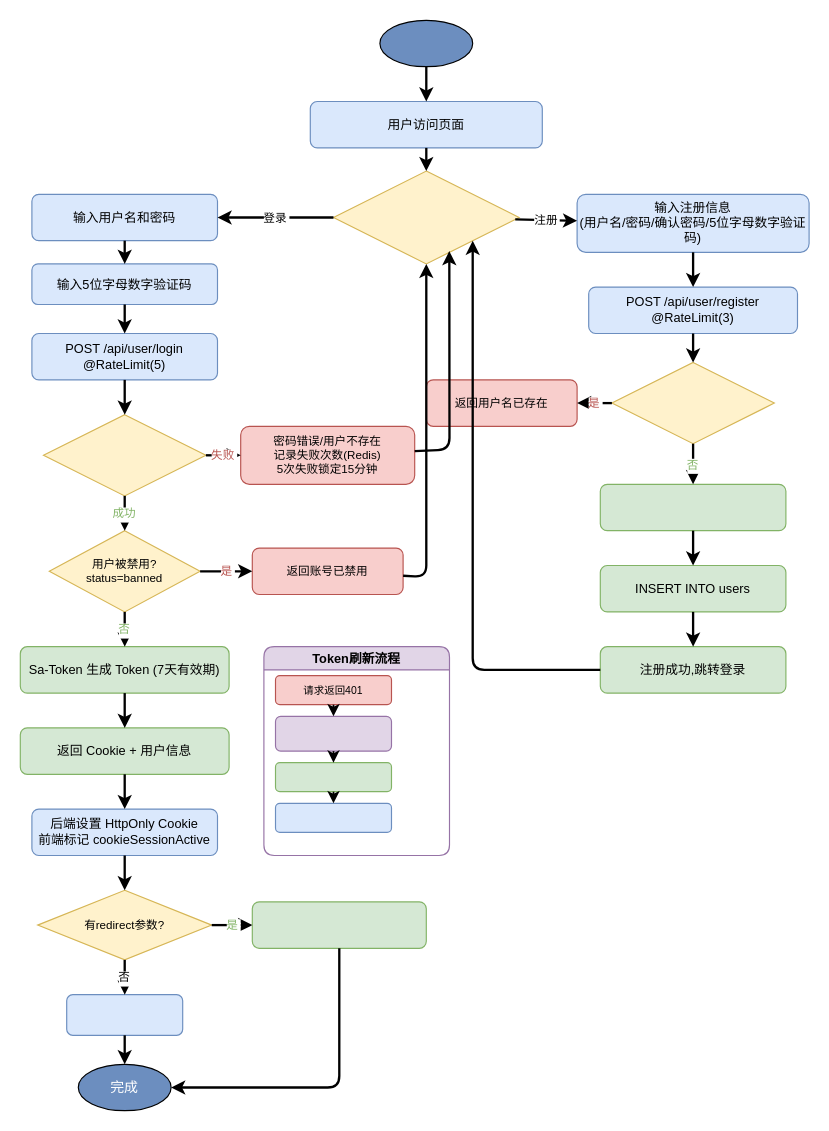
This 829x1131 diagram has some shape labels left out. The shapes that lost their labels are listed below. From the top down, each one's centre as x and y in pixels, then its label:
At pixel 426 43: "开始".
At pixel 425 217: "选择操作?".
At pixel 692 402: "用户名已存在?".
At pixel 124 455: "验证凭据?".
At pixel 692 507: "密码 BCrypt 加密".
At pixel 333 733: "POST /api/user/ refresh-token".
At pixel 333 777: "获取新Token".
At pixel 333 817: "重试原请求".
At pixel 338 924: "跳转到redirect目标页 (如 /qa, /personal)".
At pixel 124 1014: "跳转首页".
